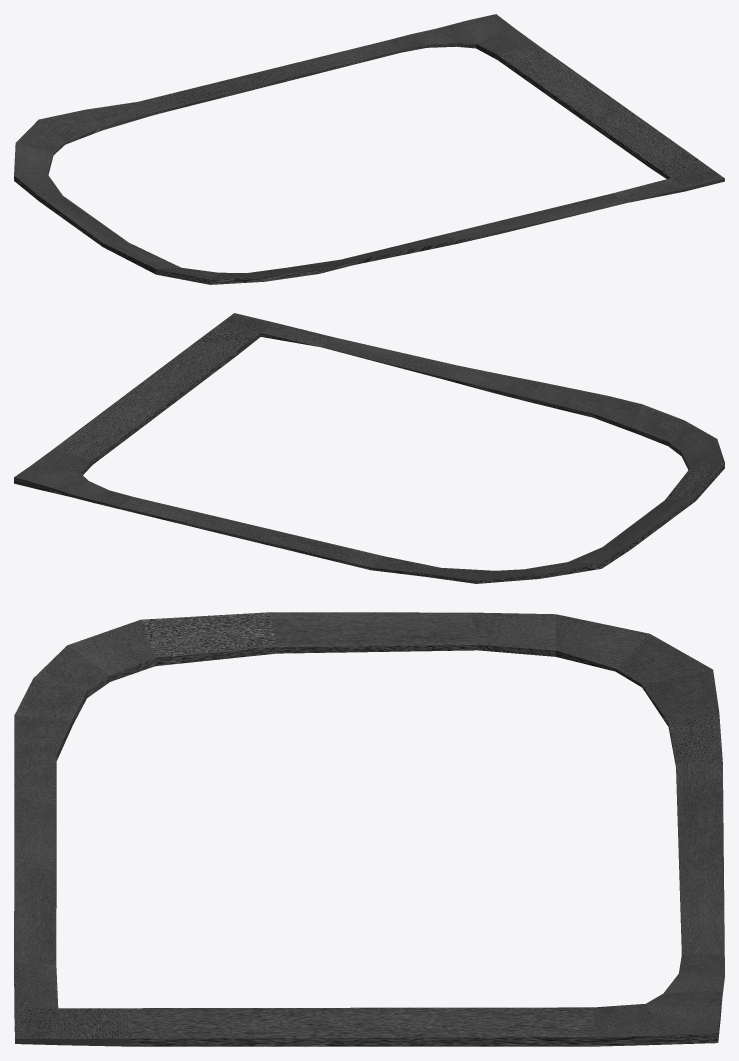
File: racetrack.gltf
3 renders of one model, top to bottom at view 1: azimuth 30°, elevation 25°; view 2: azimuth 150°, elevation 25°; view 3: azimuth 270°, elevation 25°, orthographic. The views are drawn at different scales.
Visible parts, largest first — view 1: Cube; view 2: Cube; view 3: Cube.
Boxes of the visible parts, <box> form: Cube: <box>14,14,724,284</box>; Cube: <box>14,313,724,583</box>; Cube: <box>14,612,724,1046</box>.
Bounding box in the file's own units: 165 × 5.06 × 120.
1 material, 1 textured.
